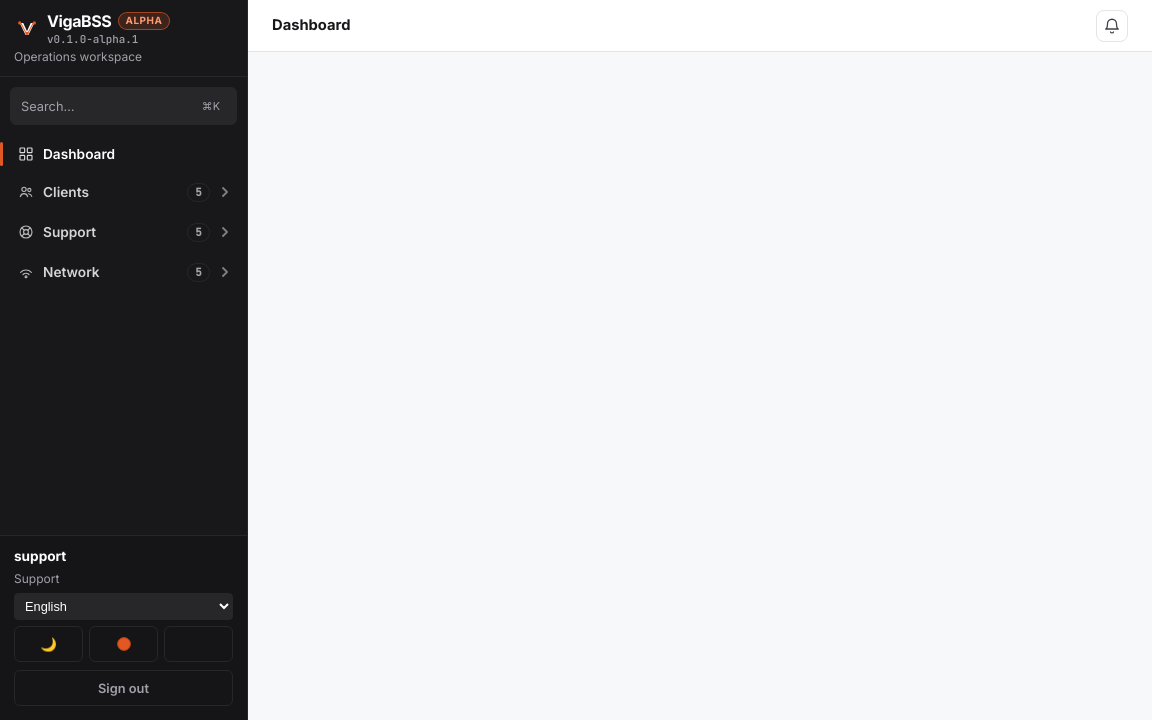
Layout — grouped sidebar navigation › gives support only its sections, all collapsed until the support kit is opened
The width and height of the screenshot is (1152, 720).
Expected: the text "Clients" is shown, [43, 184, 89, 200]
Expected: the text "Network" is shown, [43, 264, 100, 280]
Click the text "Support".
click(70, 232)  # box [43, 224, 96, 240]
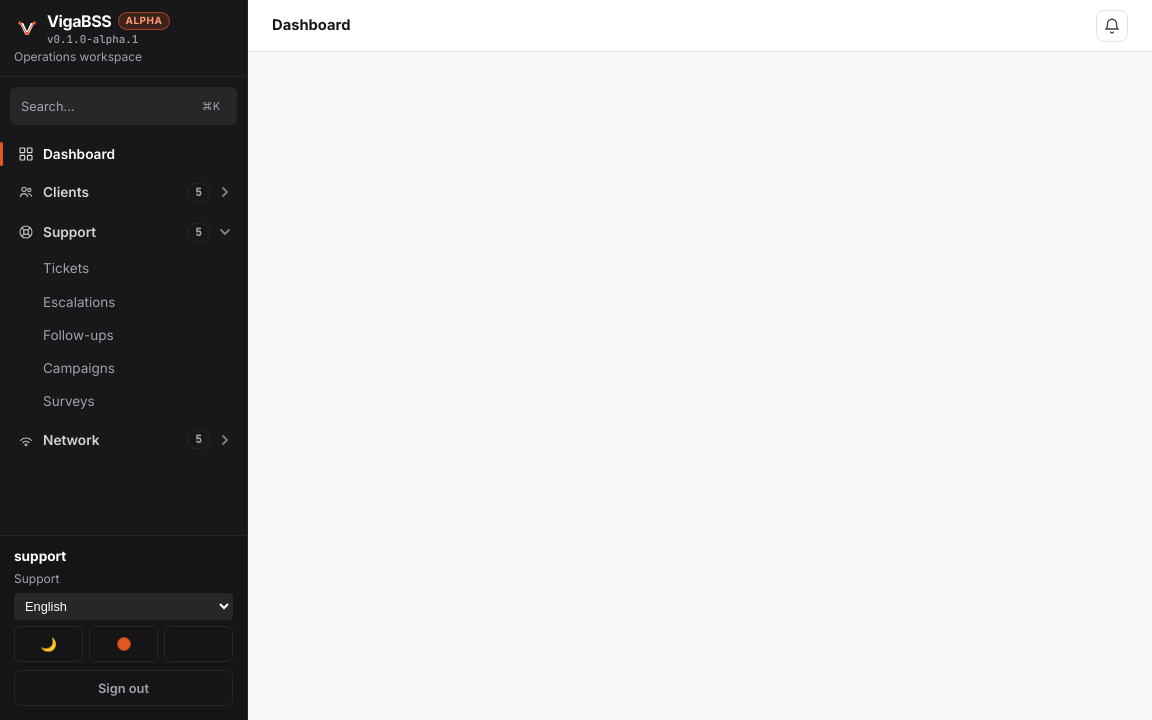
Now the link "Tickets" is shown, box [43, 260, 89, 276]
